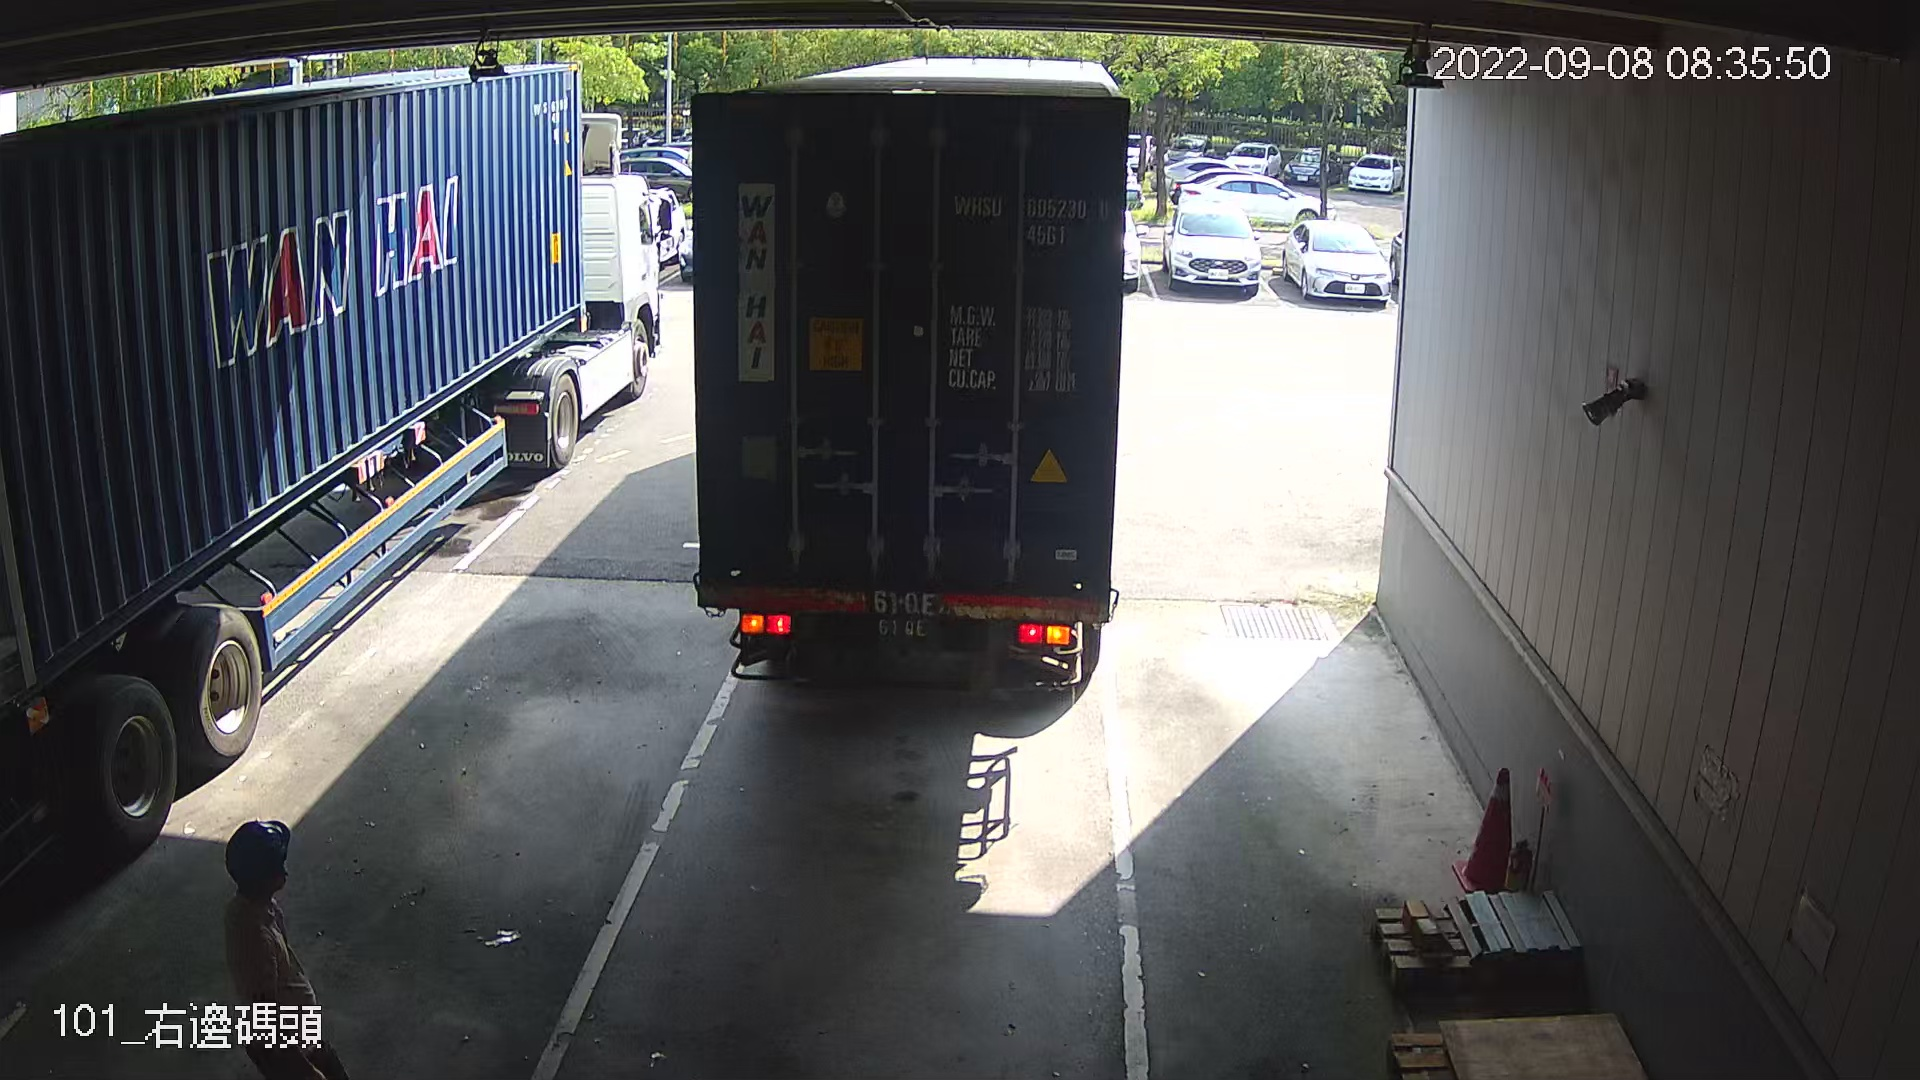container: (939, 182, 1117, 255)
